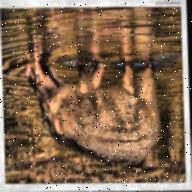boar: (24, 60, 162, 168)
